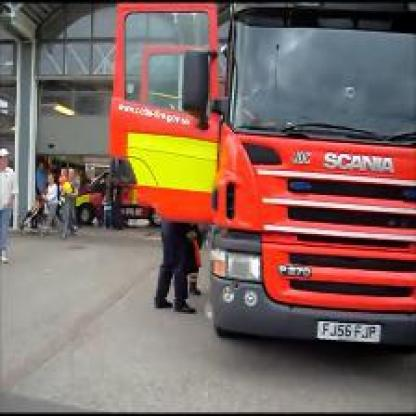other: (107, 99, 283, 228)
